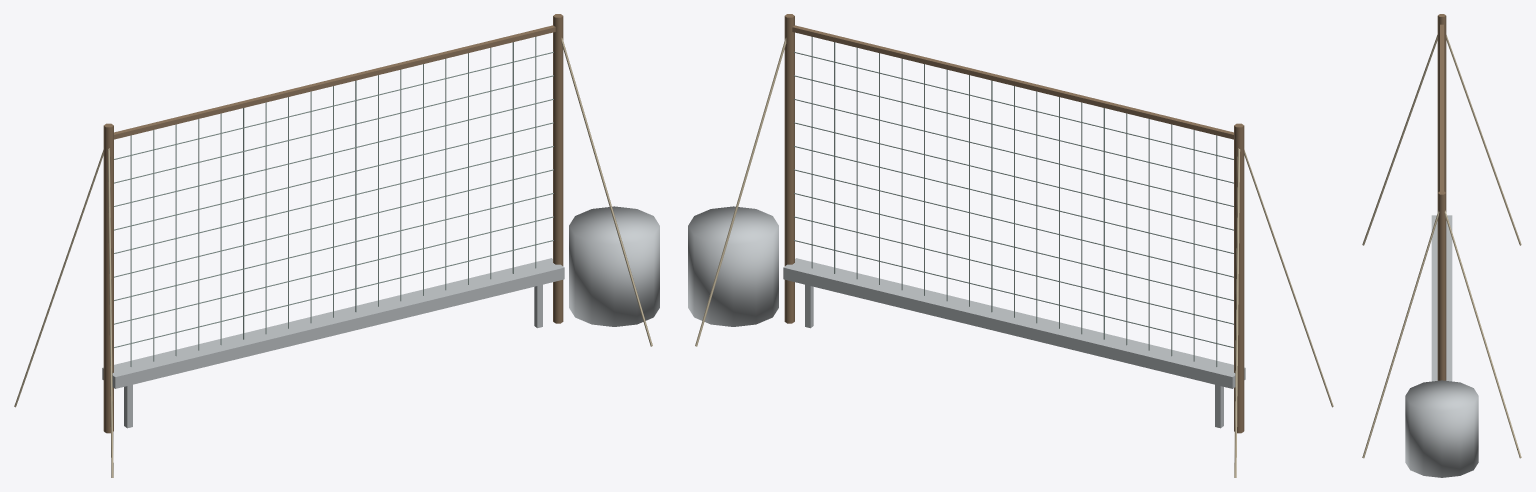
File: cloud_net.glb
The picture shows the model from 3 angles, left to right: view 1: azimuth 30°, elevation 25°; view 2: azimuth 150°, elevation 25°; view 3: azimuth 270°, elevation 25°; orthographic projection. The views are drawn at different scales.
Visible parts, largest first — view 1: cloud_net; view 2: cloud_net; view 3: cloud_net.
Boxes of the visible parts, left/top/right/bottom form: cloud_net: left=14, top=14, right=659, bottom=477; cloud_net: left=688, top=14, right=1333, bottom=477; cloud_net: left=1362, top=14, right=1521, bottom=477.
Size of the model in its own units: 10.52 by 5.21 by 3.04.
